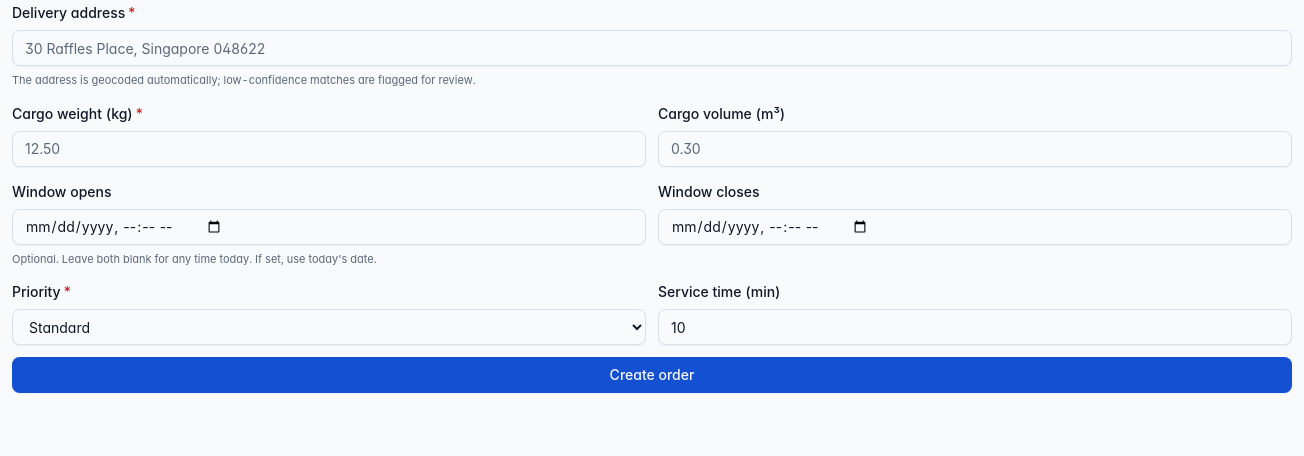
Test: OrderForm › preserves entered values when persistence fails (Requirement 3.5)
In the field labelled "Delivery address*": (652, 48) x1=12 y1=30 x2=1292 y2=66, type "1 Depot Road"
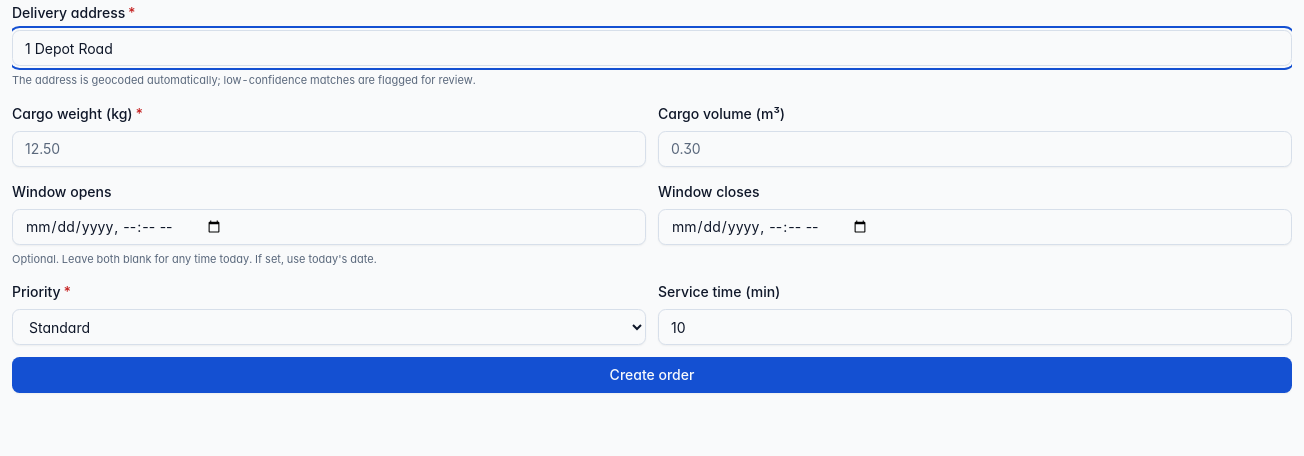
In the number field labelled "Cargo weight (kg)*": (329, 148) x1=12 y1=130 x2=646 y2=166, type "5"
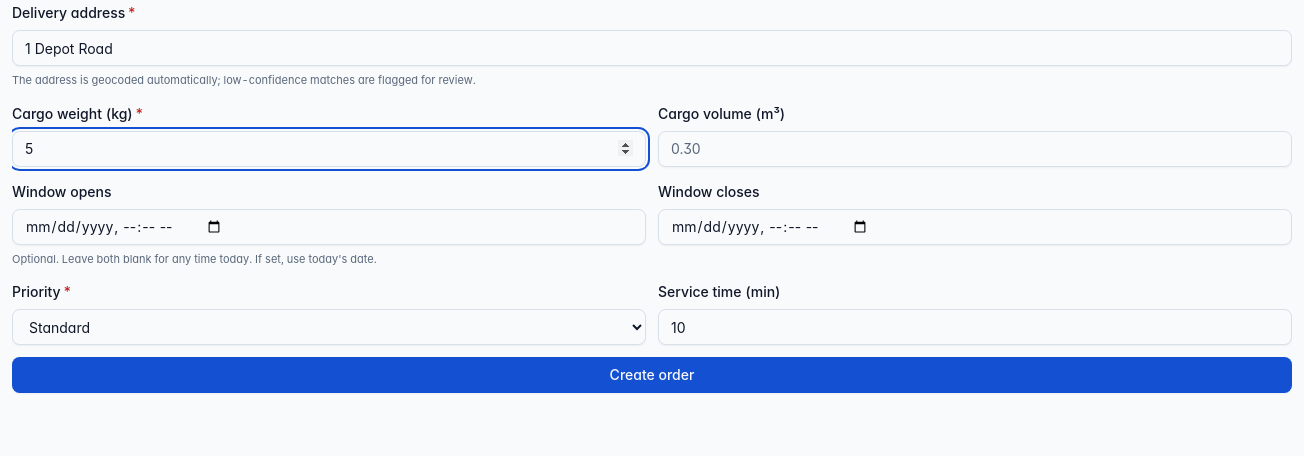
Click the button "Create order": (652, 375) x1=12 y1=357 x2=1292 y2=393
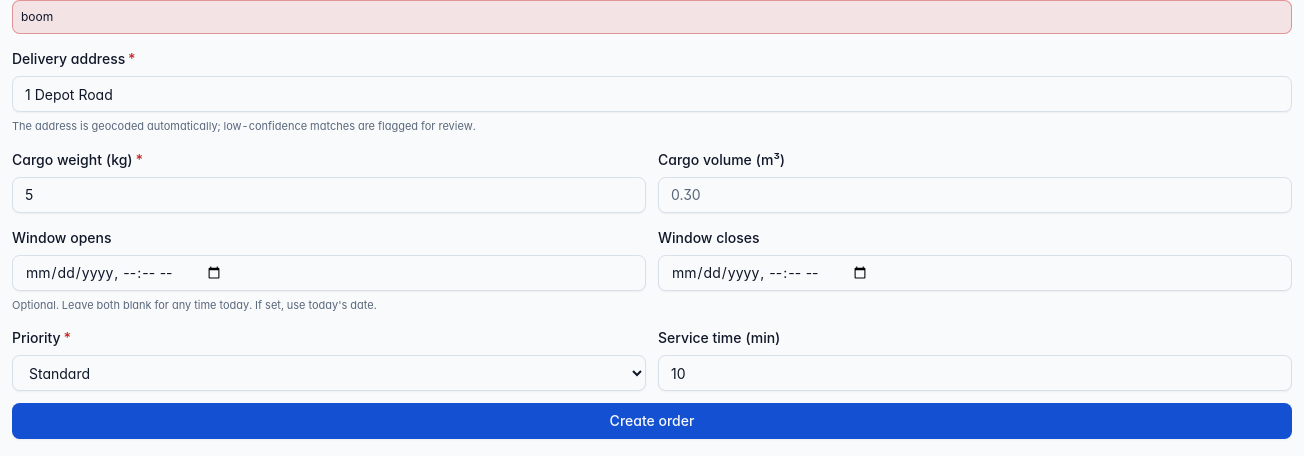
Now the message reads "boom", box x1=21 y1=9 x2=53 y2=24
